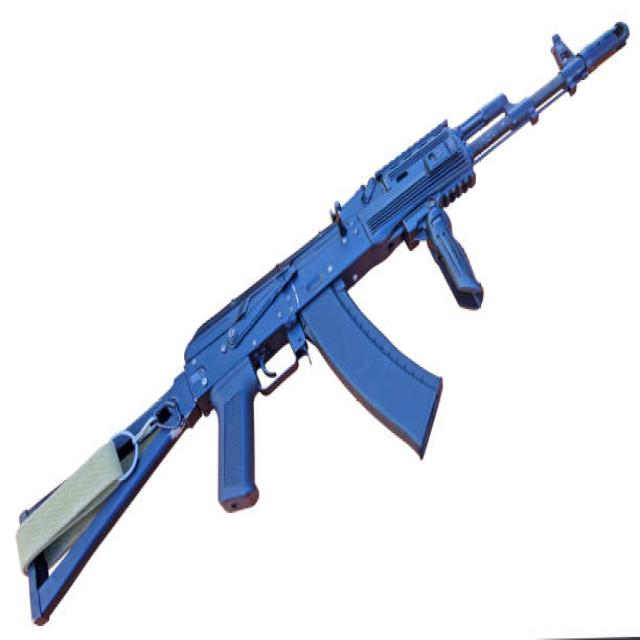rifle: (11, 10, 635, 633)
